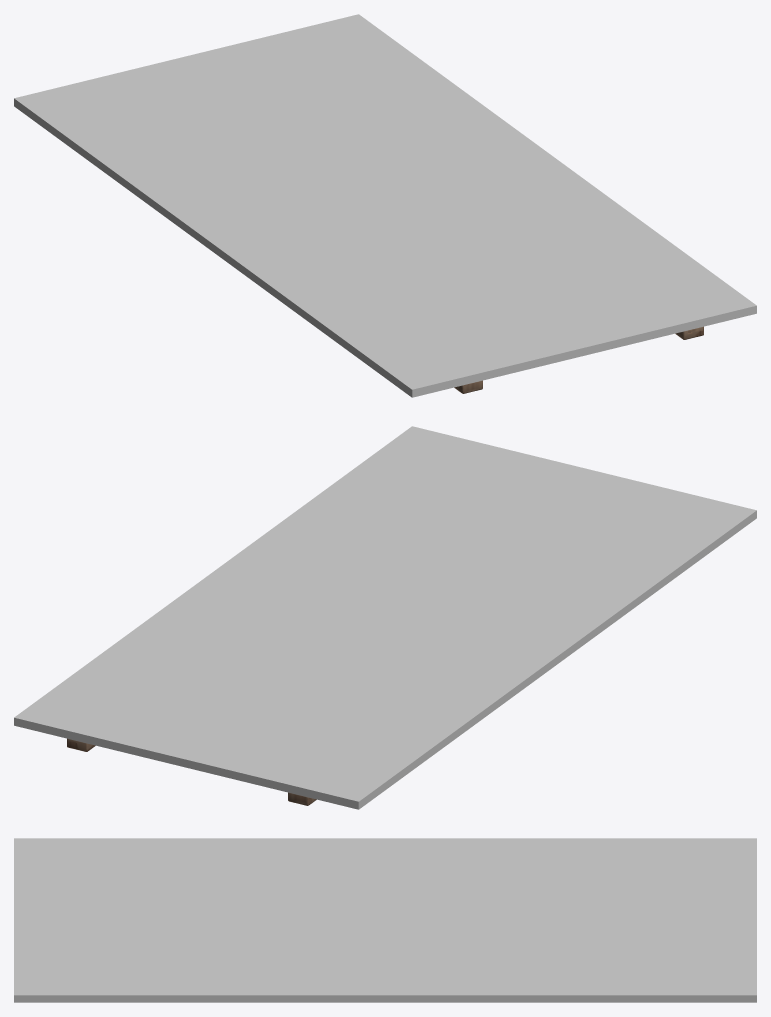
File: SM_Hangar01F_5.fbx
The picture shows the model from 3 angles, top to bottom: view 1: azimuth 30°, elevation 25°; view 2: azimuth 150°, elevation 25°; view 3: azimuth 270°, elevation 25°; orthographic projection. The views are drawn at different scales.
Visible parts, largest first — view 1: SM_Hangar01F_5_ConvexHulls; view 2: SM_Hangar01F_5_ConvexHulls; view 3: SM_Hangar01F_5_ConvexHulls.
Boxes of the visible parts, box(x1,y1,x2,y2) form: SM_Hangar01F_5_ConvexHulls: box(14, 14, 756, 397); SM_Hangar01F_5_ConvexHulls: box(14, 426, 756, 809); SM_Hangar01F_5_ConvexHulls: box(14, 838, 756, 1002).
Bounding box in the file's own units: 226 × 452 × 11.27.
3 materials, 2 textured.
